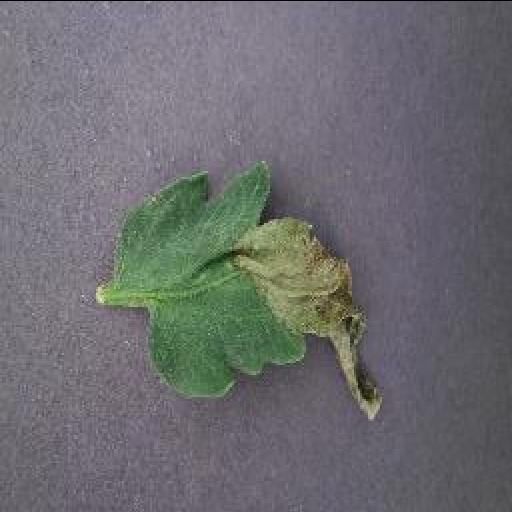disease_tomato: (114, 158, 384, 420)
